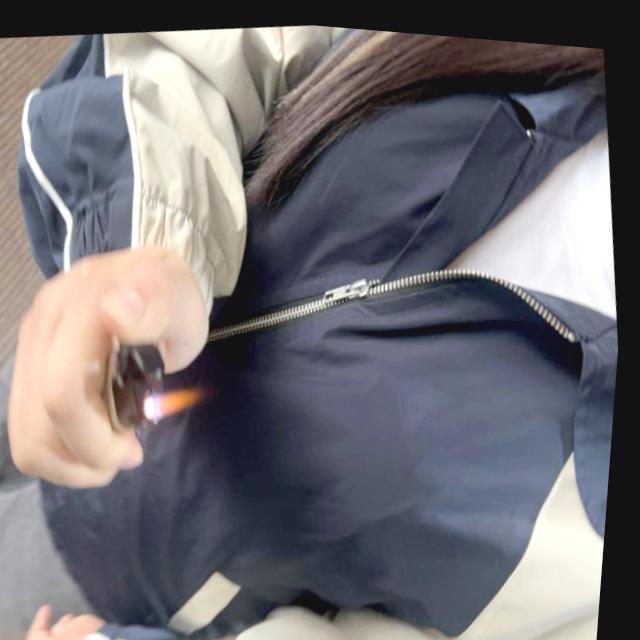helmet: (156, 378, 212, 420)
